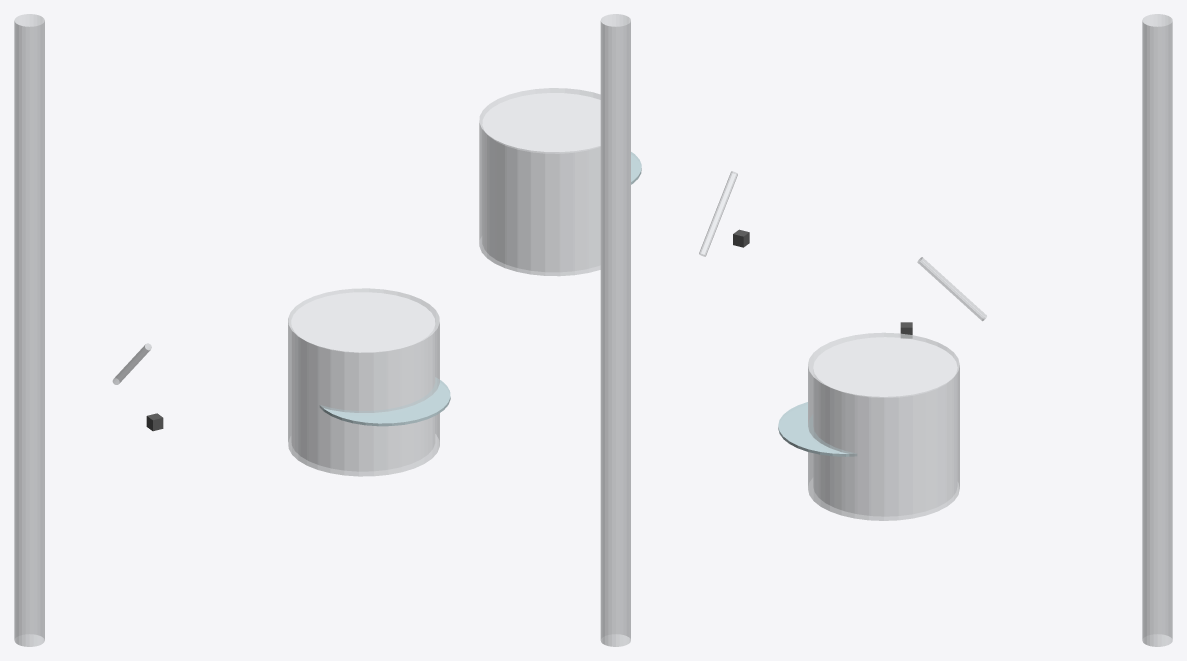
File: beaker_burette.glb
3 renders of one model, left to right at view 1: azimuth 30°, elevation 25°; view 2: azimuth 150°, elevation 25°; view 3: azimuth 270°, elevation 25°, orthographic.
Visible parts, largest first — view 1: Beaker_Outer, Beaker_Outer.001, Burette_Body, Burette_Body.001, Liquid_Mesh, Liquid_Mesh.001; view 2: Beaker_Outer, Beaker_Outer.001, Burette_Body, Burette_Body.001, Burette_Spout, Burette_Spout.001; view 3: Beaker_Outer, Beaker_Outer.001, Burette_Body, Burette_Body.001, Liquid_Mesh, Liquid_Mesh.001, Burette_Spout, Burette_Spout.001.
Boxes of the visible parts, x1,y1,x2,y2 form: Beaker_Outer: (288, 288, 439, 476); Beaker_Outer.001: (288, 288, 439, 476); Burette_Body: (14, 14, 44, 646); Burette_Body.001: (14, 14, 44, 646); Liquid_Mesh: (320, 377, 450, 426); Liquid_Mesh.001: (323, 380, 449, 425); Beaker_Outer: (479, 88, 600, 275); Beaker_Outer.001: (479, 88, 600, 275); Burette_Body: (601, 14, 630, 646); Burette_Body.001: (601, 14, 630, 646); Burette_Spout: (699, 171, 737, 256); Burette_Spout.001: (699, 171, 737, 256); Beaker_Outer: (808, 333, 959, 520); Beaker_Outer.001: (808, 333, 959, 520); Burette_Body: (1142, 14, 1172, 646); Burette_Body.001: (1142, 14, 1172, 646); Liquid_Mesh: (778, 402, 856, 456); Liquid_Mesh.001: (779, 402, 848, 456); Burette_Spout: (917, 257, 986, 320); Burette_Spout.001: (917, 257, 986, 320).
Size of what is drawn, in the model's own units: 0.21 by 0.45 by 0.2595.
